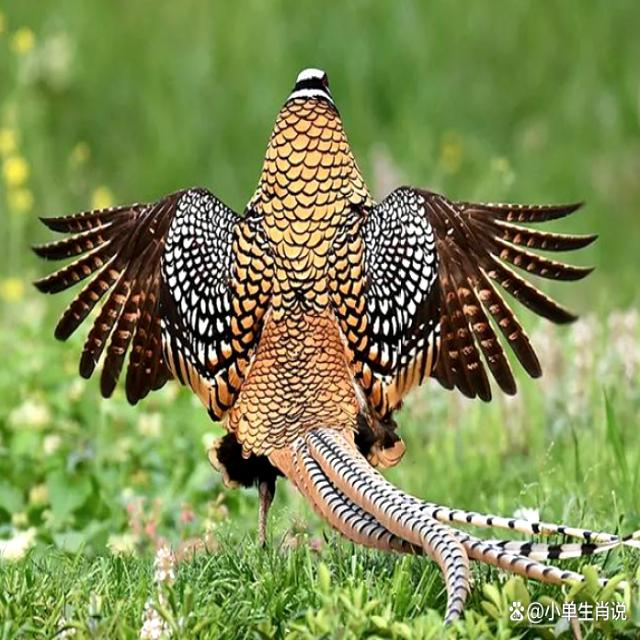Reeves-s Pheasant: (269, 428, 619, 628)
